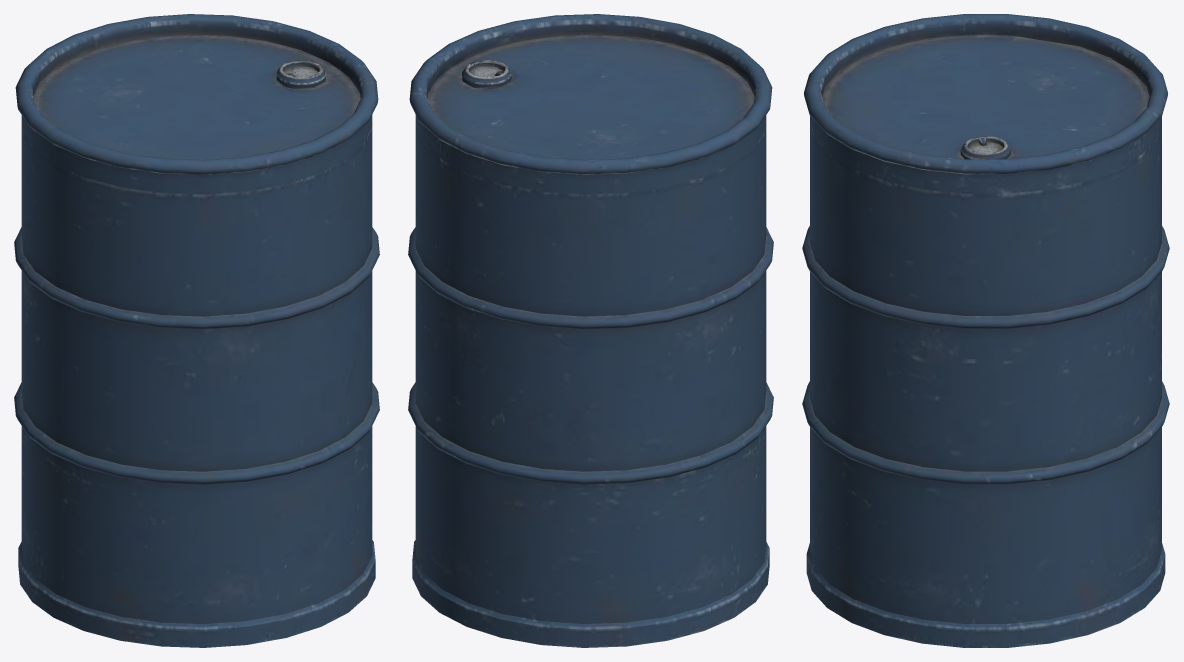
File: barrel_03.glb
3 views of the same model, side by side, from view 1: azimuth 30°, elevation 25°; view 2: azimuth 150°, elevation 25°; view 3: azimuth 270°, elevation 25° (orthographic).
Parts seen in each view (by area): view 1: barrel_03; view 2: barrel_03; view 3: barrel_03.
Boxes of the visible parts, <box> form: barrel_03: <box>14,14,379,647</box>; barrel_03: <box>408,14,773,647</box>; barrel_03: <box>802,14,1169,647</box>.
Size of the model in its own units: 0.6339 by 0.9305 by 0.6386.
1 material, 1 textured.
